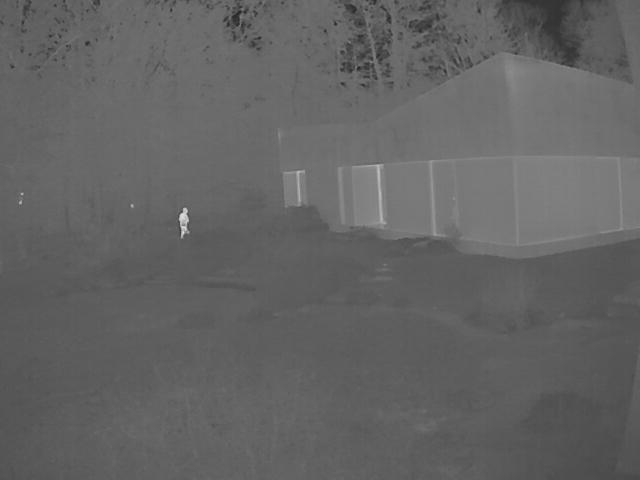person: (180, 206, 192, 237)
